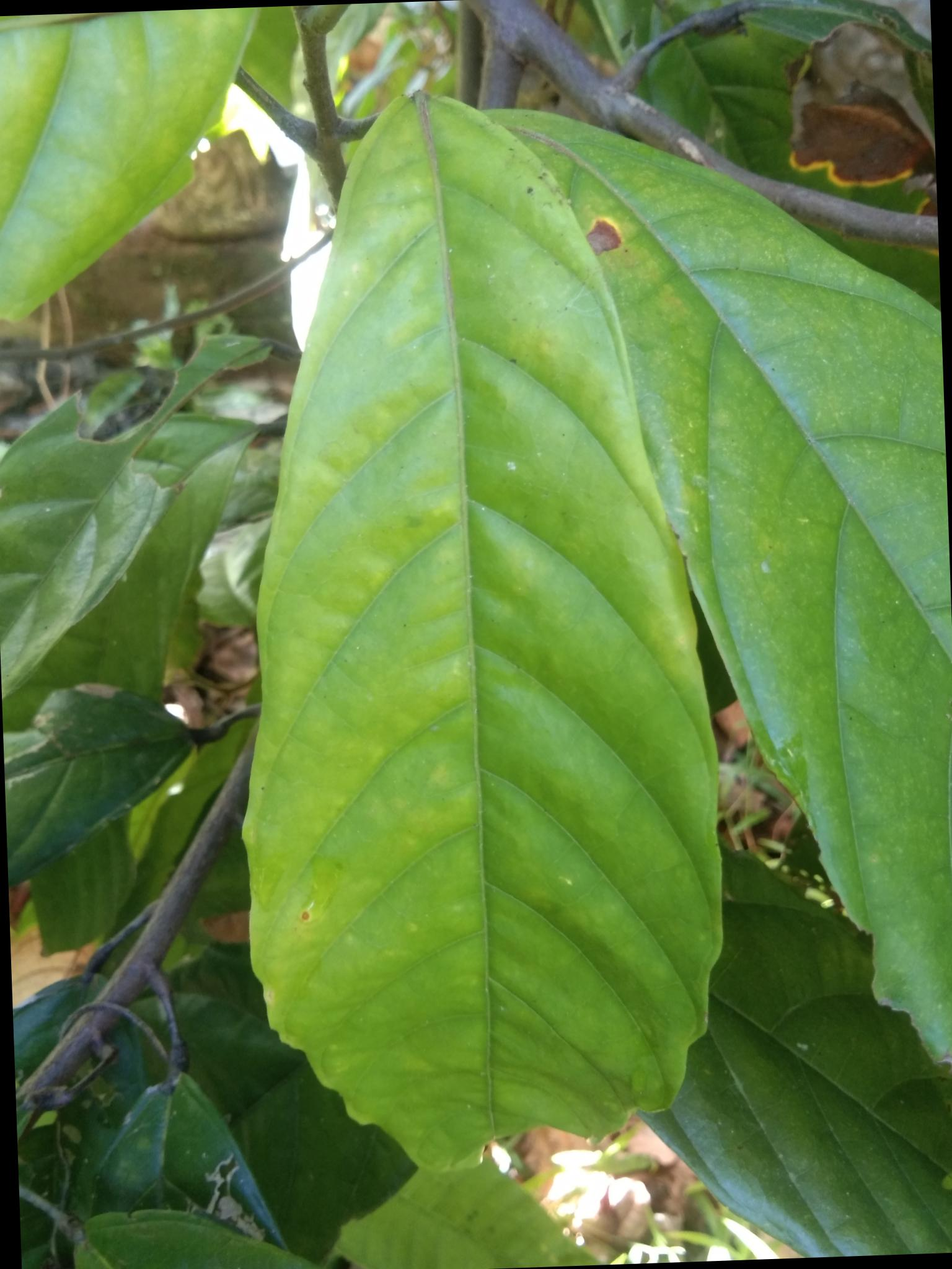Fosforo: (244, 91, 724, 1174)
